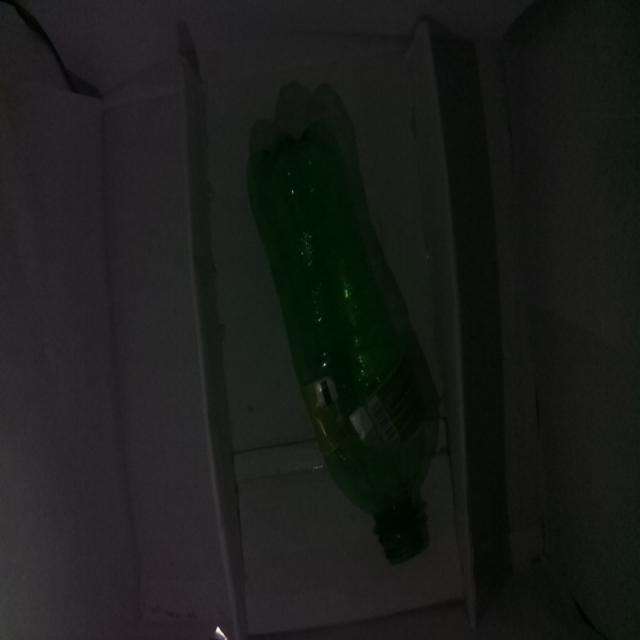bottle: (245, 81, 441, 564)
